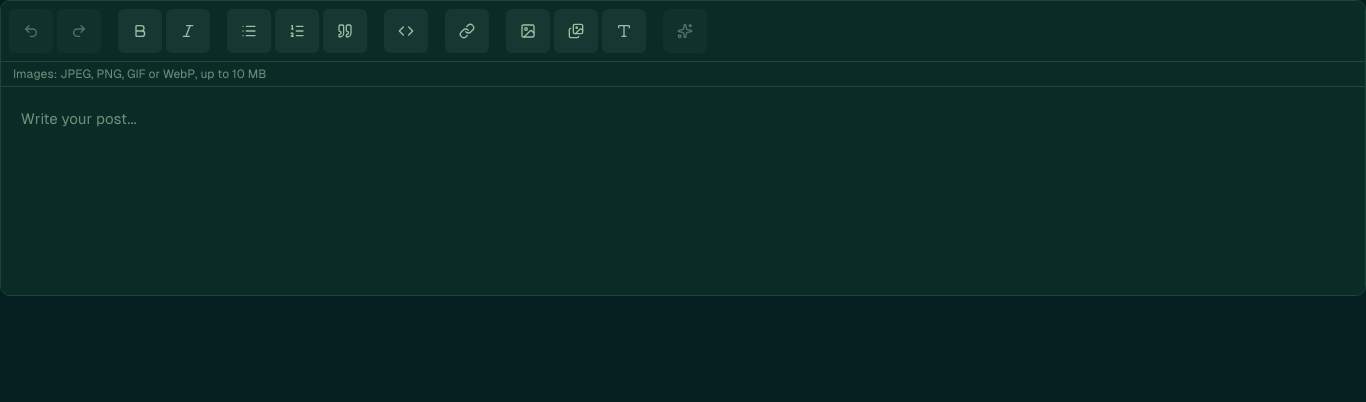
Scenario: TipTapEditor › opens a styled link editor instead of window.prompt, and validates the URL (M24)
This screenshot has width=1366, height=402.
Click the button titled "Insert Link".
click(467, 31)  # box x1=445 y1=9 x2=489 y2=53
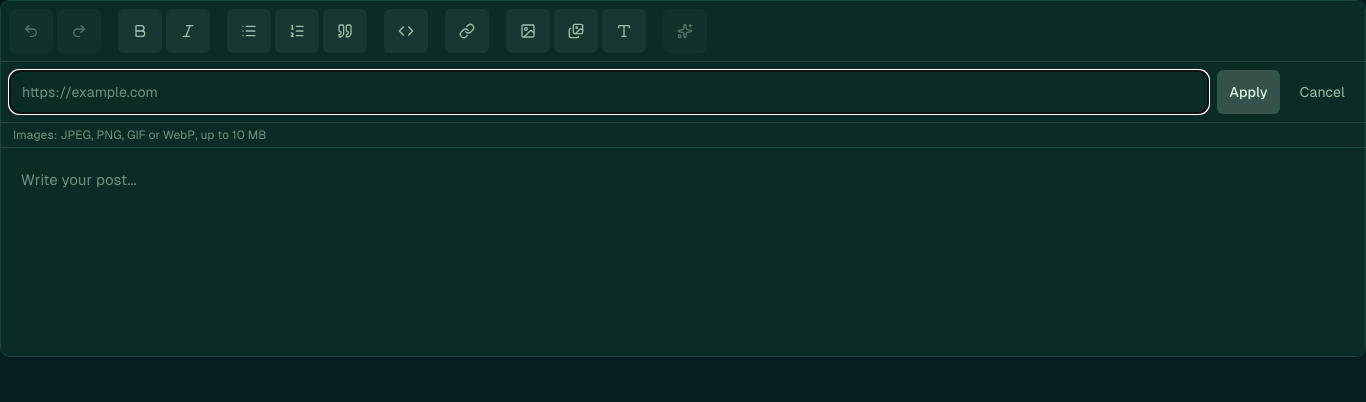
Type "javascript:alert(1)" into the field named "Link URL".
click(609, 92); type("javascript:alert(1)")  # box x1=9 y1=70 x2=1209 y2=114
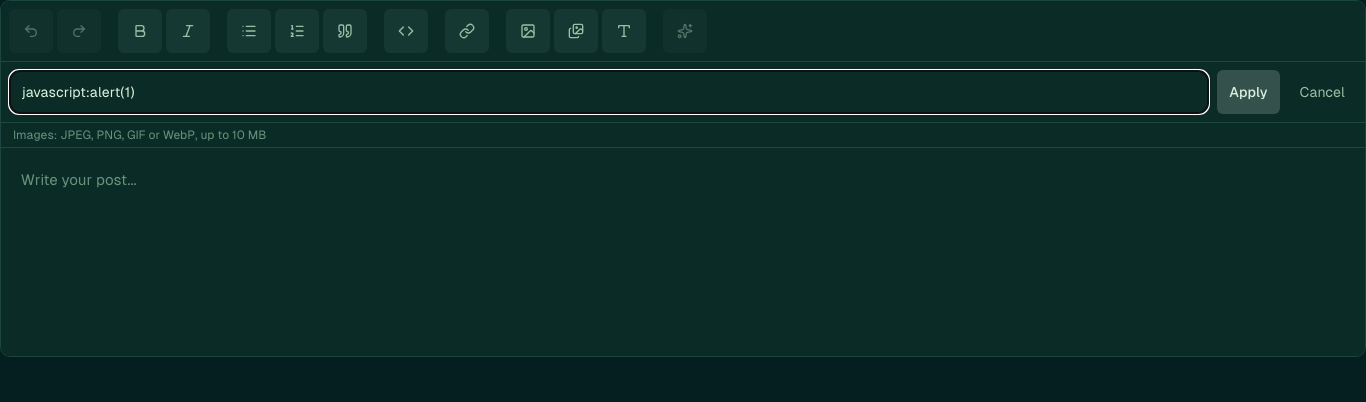
Click the button "Apply".
click(1248, 92)  # box x1=1217 y1=70 x2=1280 y2=114
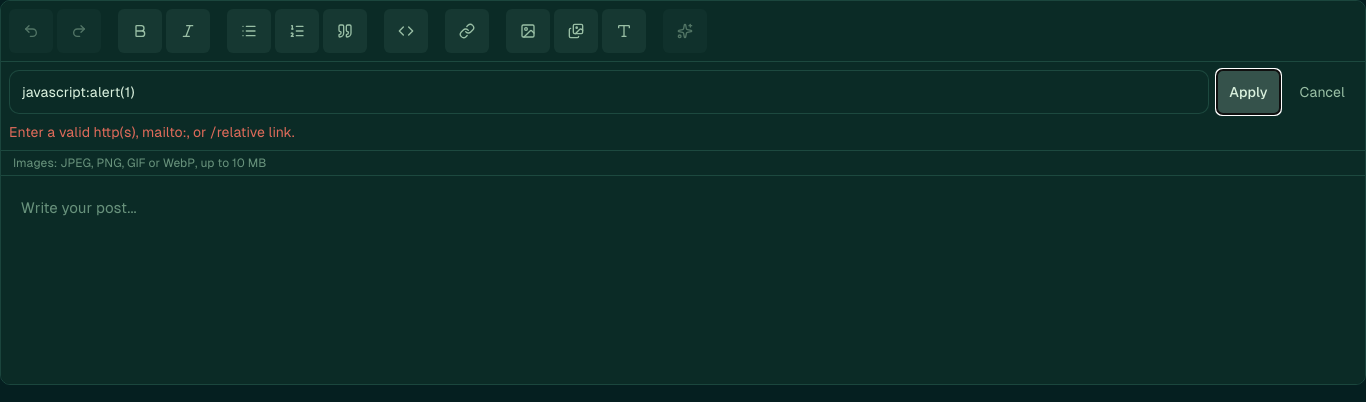
Now the text "Enter a valid http(s), mailto:, or /relative link." is shown, box x1=9 y1=124 x2=295 y2=140
